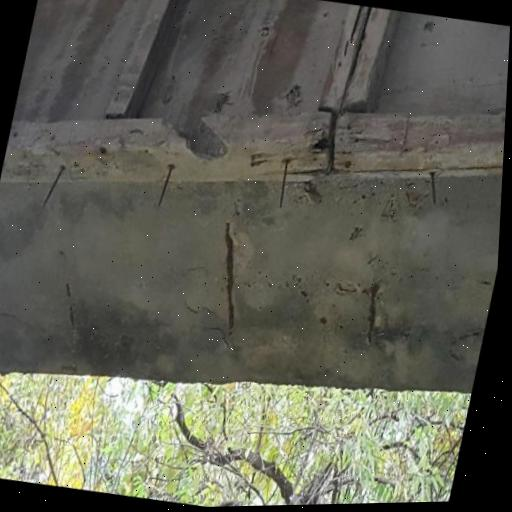exposed_rebar: (224, 223, 234, 334), (362, 282, 379, 342), (42, 164, 65, 207), (158, 165, 173, 206), (279, 160, 288, 206), (350, 6, 361, 40), (429, 171, 436, 204), (69, 305, 75, 334), (66, 283, 71, 297), (343, 42, 348, 56)
